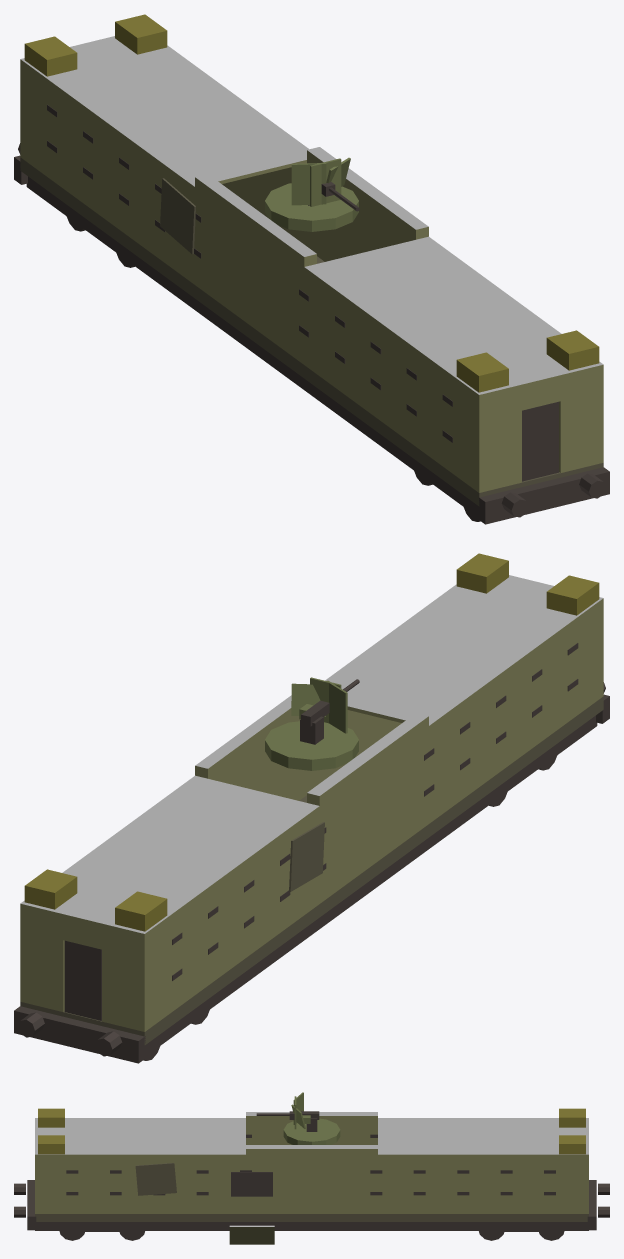
Rendered from SM_R3_VagonBlindado_v3_Castigado_LOD0.fbx.
The picture shows the model from 3 angles, top to bottom: view 1: azimuth 30°, elevation 25°; view 2: azimuth 150°, elevation 25°; view 3: azimuth 270°, elevation 25°; orthographic projection. The views are drawn at different scales.
Visible parts, largest first — view 1: SM_vagon_blindado_v3_LOD0, Torre; view 2: SM_vagon_blindado_v3_LOD0, Torre; view 3: SM_vagon_blindado_v3_LOD0, Torre.
Boxes of the visible parts, x1,y1,x2,y2 form: SM_vagon_blindado_v3_LOD0: (14, 14, 609, 524); Torre: (265, 157, 359, 231); SM_vagon_blindado_v3_LOD0: (14, 553, 609, 1063); Torre: (265, 677, 359, 770); SM_vagon_blindado_v3_LOD0: (14, 1108, 609, 1244); Torre: (256, 1092, 340, 1144).
Size of the model in its own units: 3.4 by 4.75 by 19.9.
